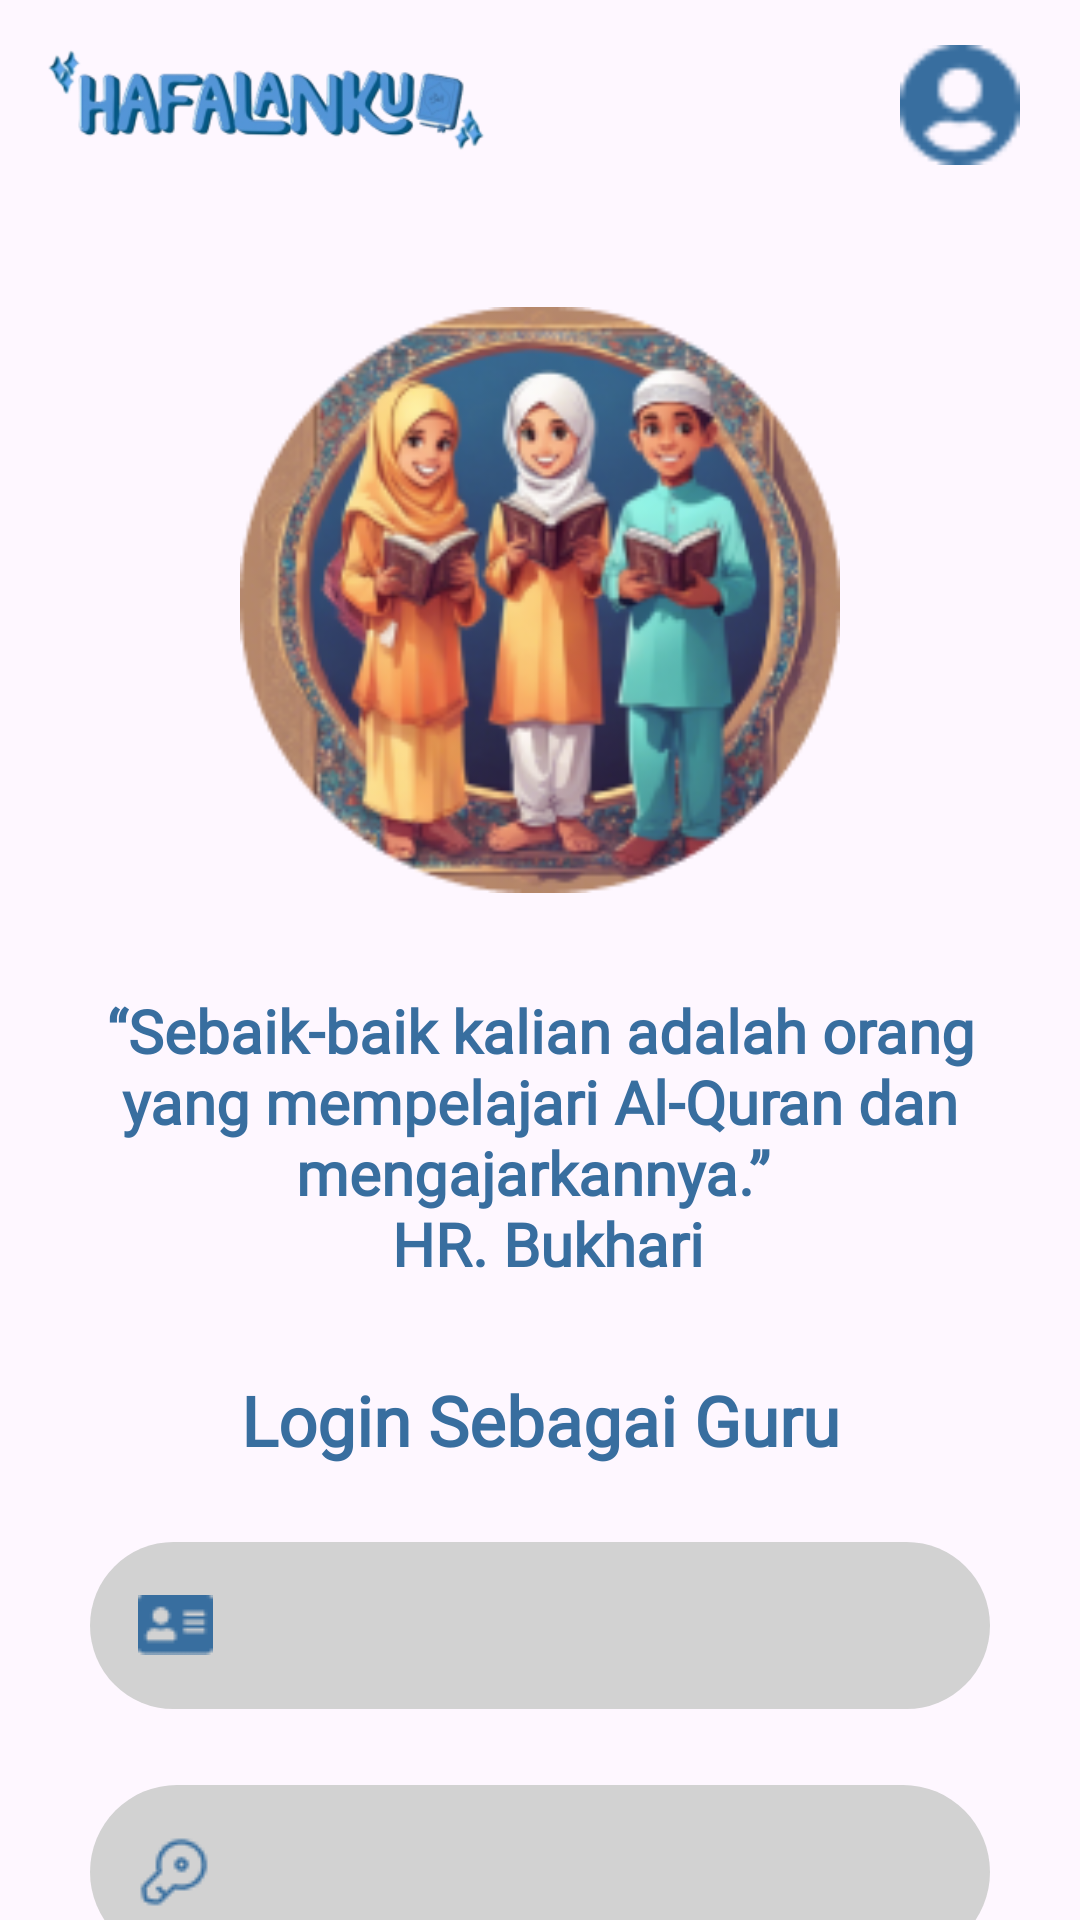

Point at icon controls on the screen. Image size 1080*1920, points as [x,y].
profile: [960,105]
